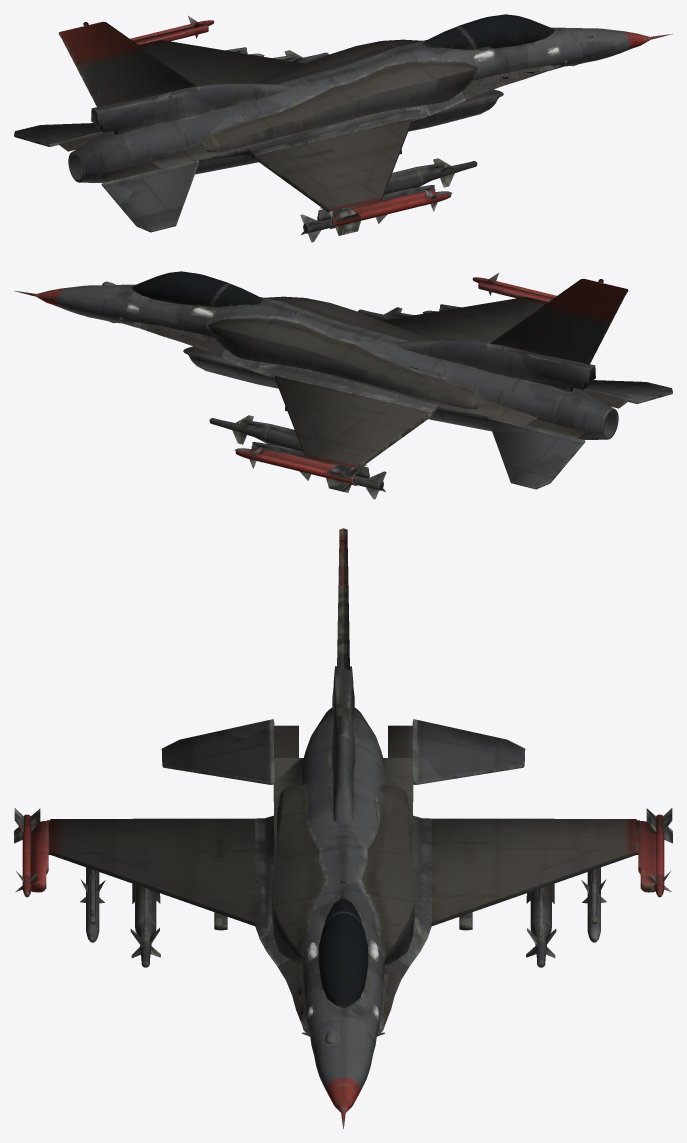
Rendered from fh_battle_e_draft.glb.
3 renders of one model, top to bottom at view 1: azimuth 30°, elevation 25°; view 2: azimuth 150°, elevation 25°; view 3: azimuth 270°, elevation 25°, orthographic. The views are drawn at different scales.
Parts seen in each view (by area): view 1: draft; view 2: draft; view 3: draft.
Boxes of the visible parts, left/top/right/bottom form: draft: left=14, top=14, right=672, bottom=242; draft: left=14, top=271, right=672, bottom=499; draft: left=14, top=528, right=672, bottom=1128.
Bounding box in the file's own units: 1 × 0.2851 × 0.6959.
Materials: 2 (2 with a texture image).
